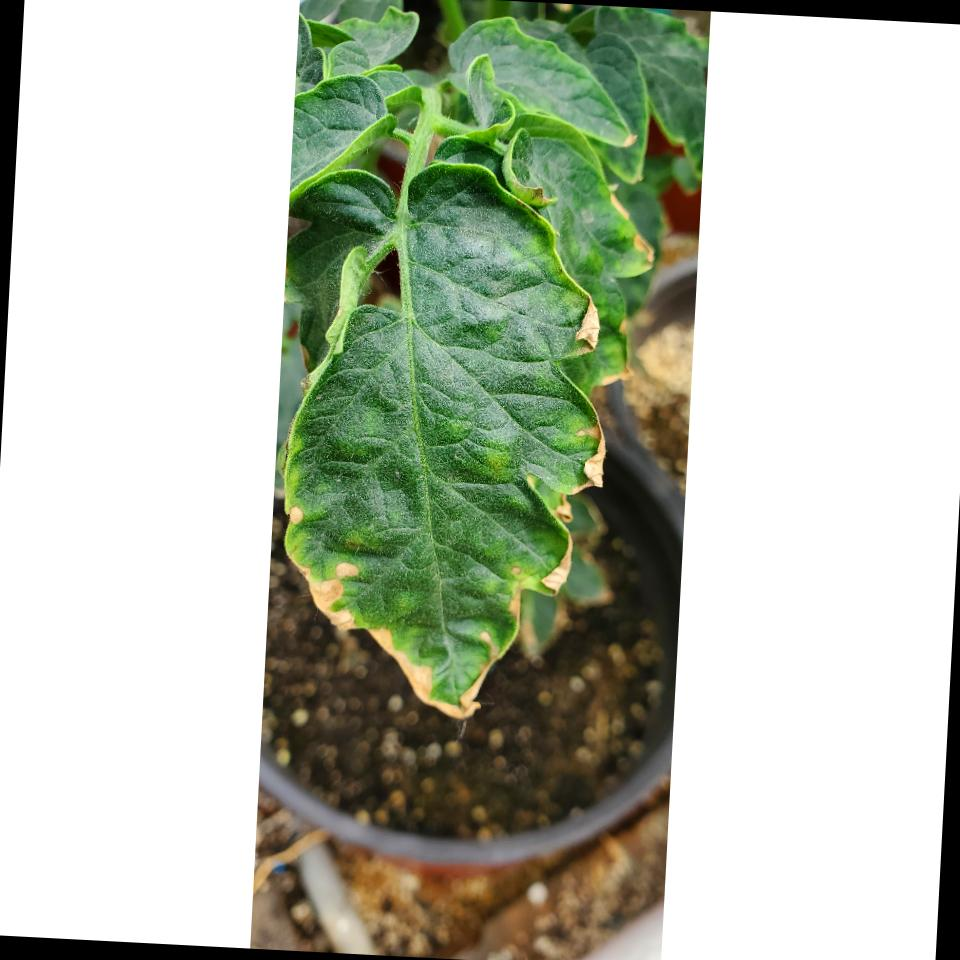tomato_bacterial_blight: (262, 176, 625, 732)
